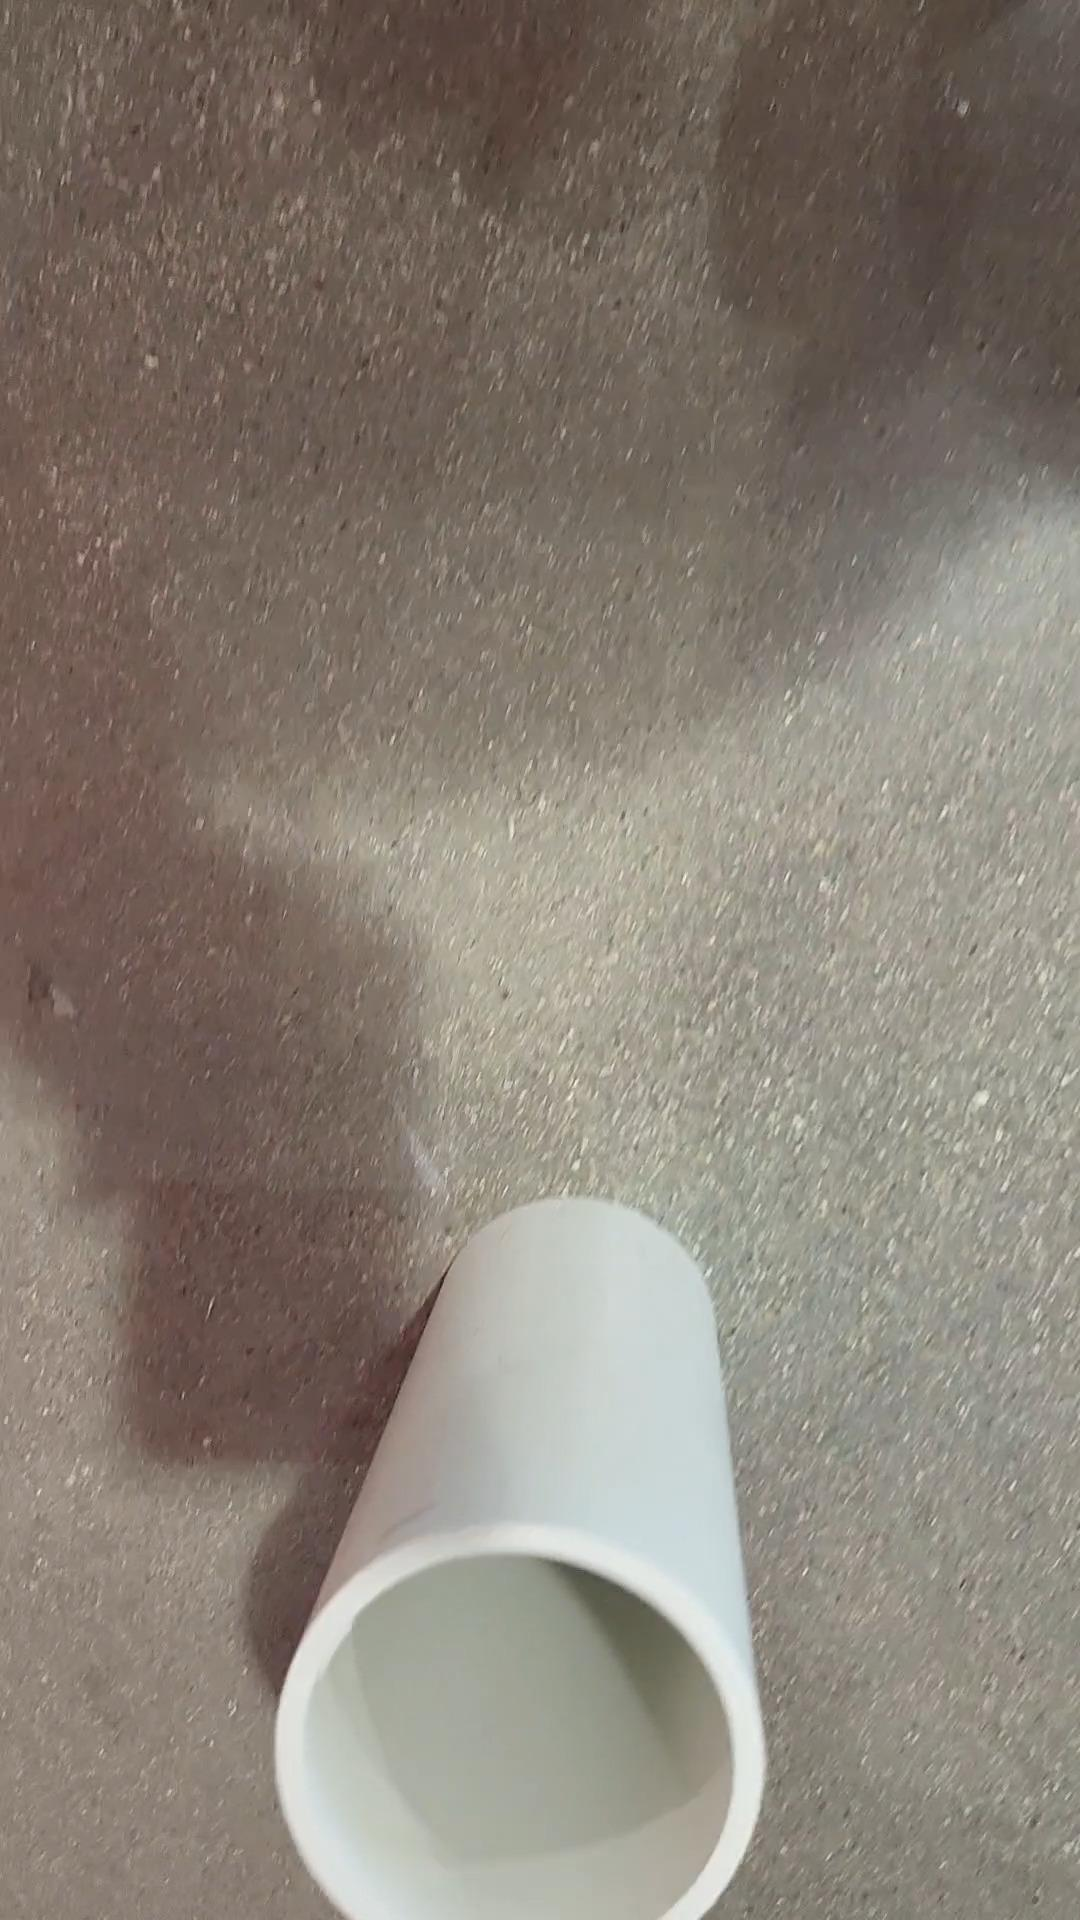coral: (277, 1200, 762, 1920)
